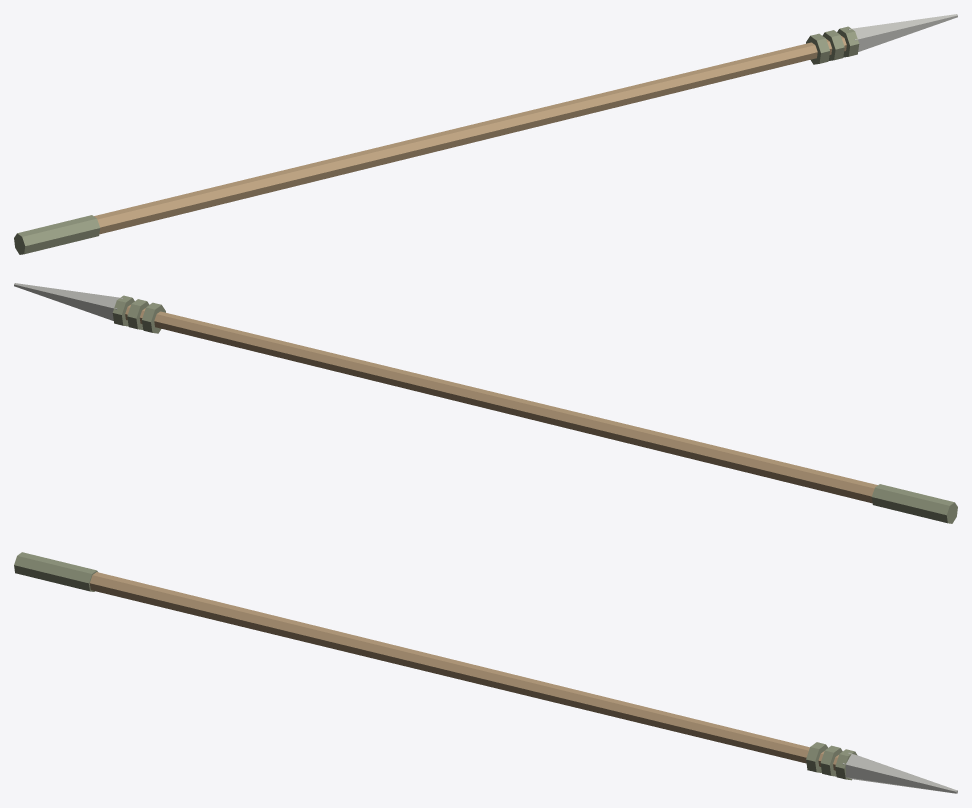
The model's file is spear-3.glb.
3 renders of one model, top to bottom at view 1: azimuth 30°, elevation 25°; view 2: azimuth 150°, elevation 25°; view 3: azimuth 330°, elevation 25°, orthographic.
Visible parts, largest first — view 1: stone-spear; view 2: stone-spear; view 3: stone-spear.
Part boxes in pixels (left/top/right/bottom): stone-spear: left=14, top=14, right=957, bottom=254; stone-spear: left=14, top=283, right=957, bottom=523; stone-spear: left=14, top=552, right=957, bottom=793.
Size of the model in its own units: 2.25 by 0.0619 by 0.0624.
